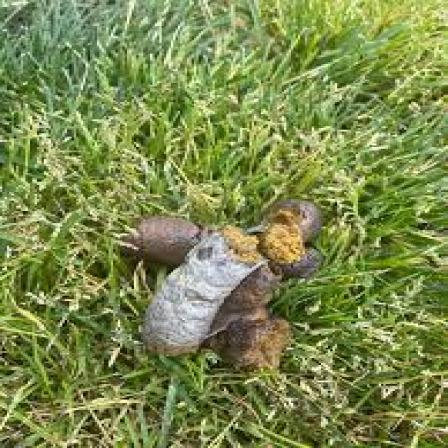dog-poop: (118, 196, 323, 372)
